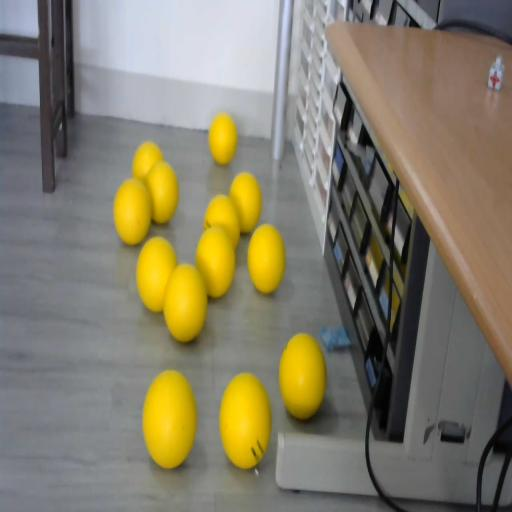FUEL: (141, 368, 197, 469), (218, 371, 272, 468), (278, 332, 326, 420), (136, 236, 177, 312), (194, 226, 236, 298), (247, 222, 286, 294), (113, 178, 152, 244), (146, 160, 179, 224), (229, 172, 262, 234), (208, 112, 238, 165)
